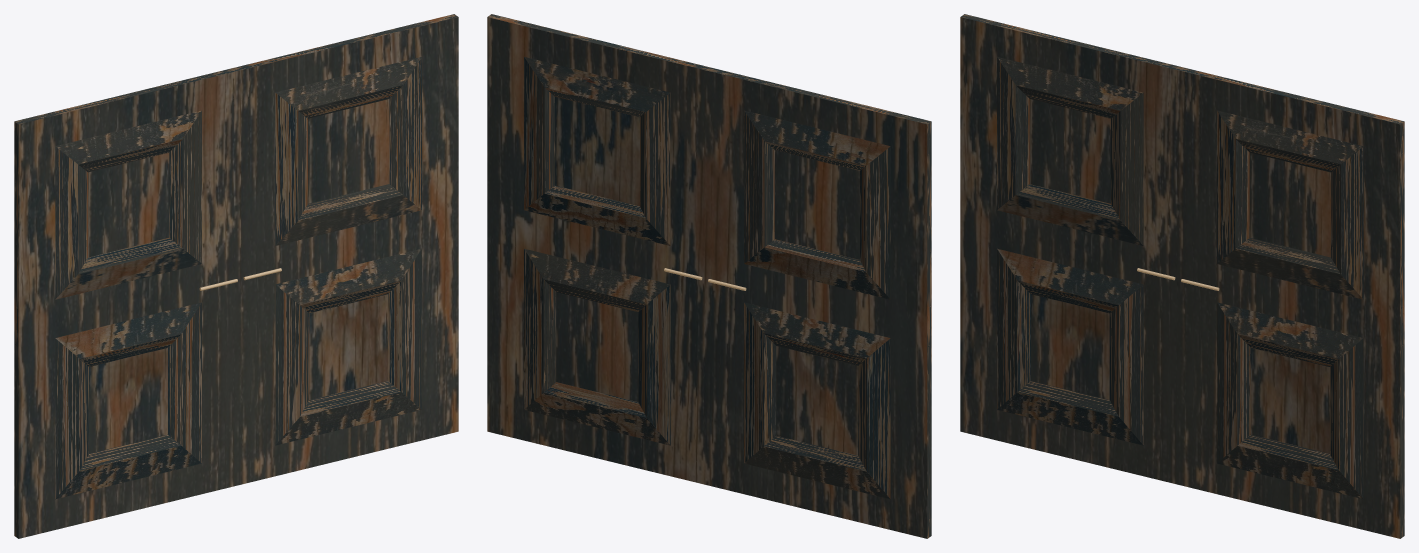
File: DoubleDoor.glb
3 renders of one model, left to right at view 1: azimuth 30°, elevation 25°; view 2: azimuth 150°, elevation 25°; view 3: azimuth 330°, elevation 25°, orthographic.
Visible parts, largest first — view 1: Cube; view 2: Cube; view 3: Cube.
Boxes of the visible parts, left/top/right/bottom form: Cube: left=14, top=14, right=458, bottom=538; Cube: left=487, top=14, right=931, bottom=538; Cube: left=960, top=14, right=1404, bottom=538.
Size of the model in its own units: 3 by 2.7 by 0.12.
Materials: 4 (1 with a texture image).
